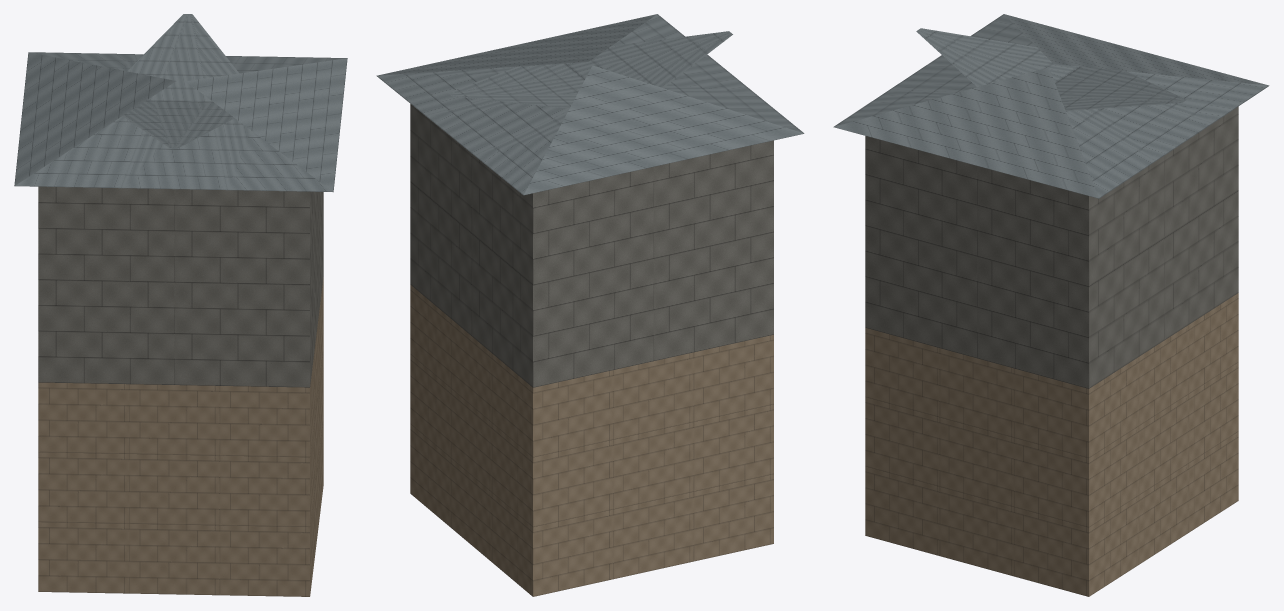
The model's file is bld_c9_6_515.gltf.
The picture shows the model from 3 angles, left to right: view 1: azimuth 30°, elevation 25°; view 2: azimuth 150°, elevation 25°; view 3: azimuth 270°, elevation 25°; orthographic projection.
Visible parts, largest first — view 1: bld_c9_6_515; view 2: bld_c9_6_515; view 3: bld_c9_6_515.
Boxes of the visible parts, bbox=[...] form: bld_c9_6_515: bbox=[14, 14, 347, 596]; bld_c9_6_515: bbox=[376, 14, 804, 596]; bld_c9_6_515: bbox=[833, 14, 1269, 596].
Bounding box in the file's own units: 9.71 × 11.1 × 9.7.
Materials: 3 (3 with a texture image).
